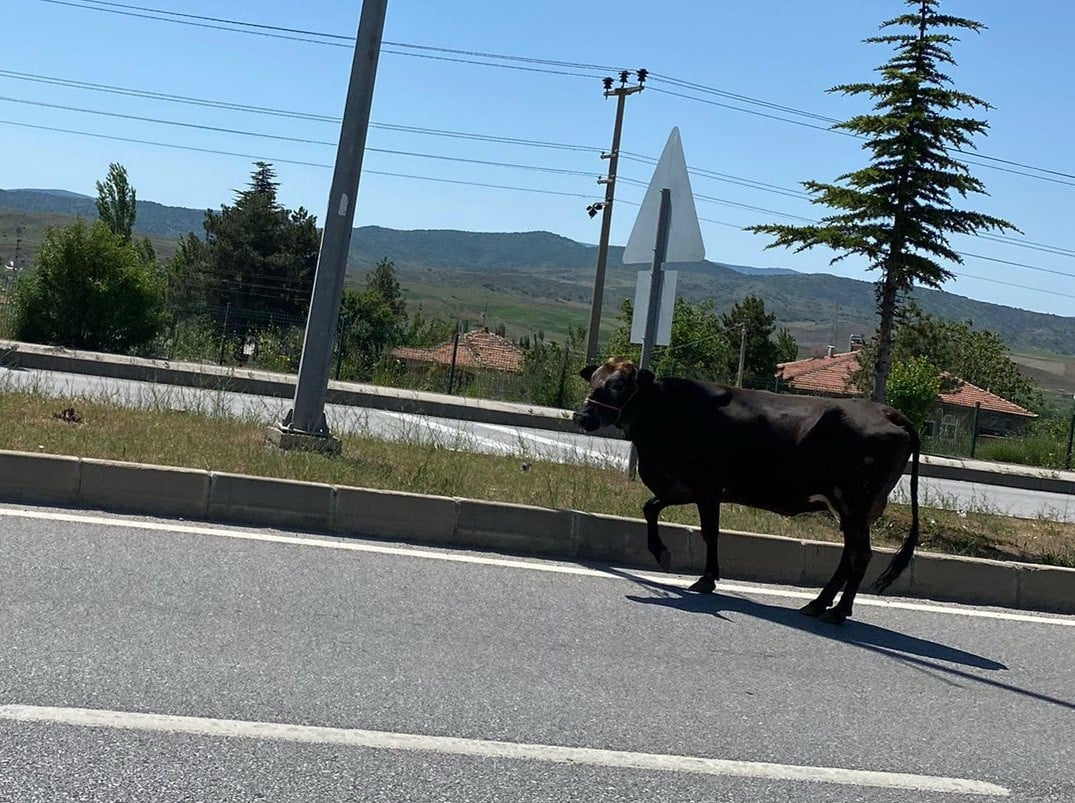inek: (564, 355, 924, 606)
